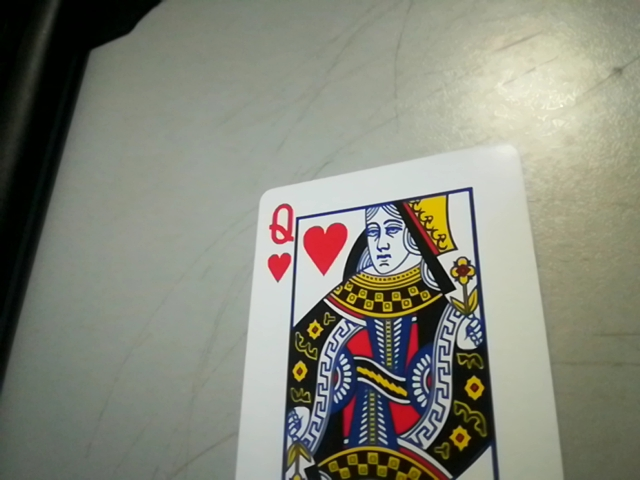hx q: (254, 198, 297, 286)
